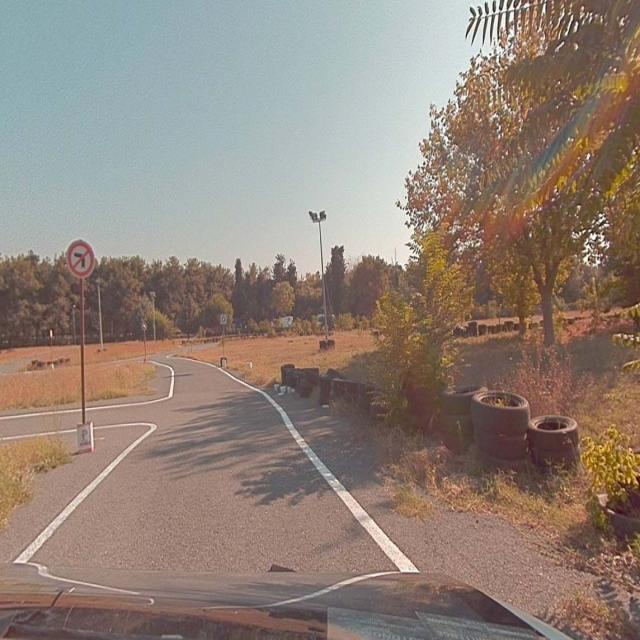durak: (221, 314, 227, 324)
soladonulmez: (70, 242, 94, 274)
